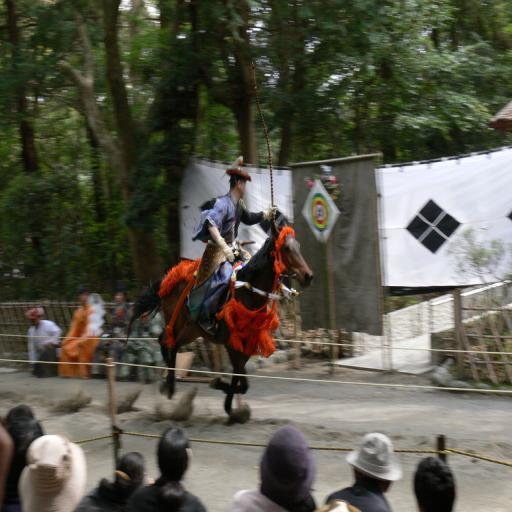horse: (123, 218, 314, 419)
